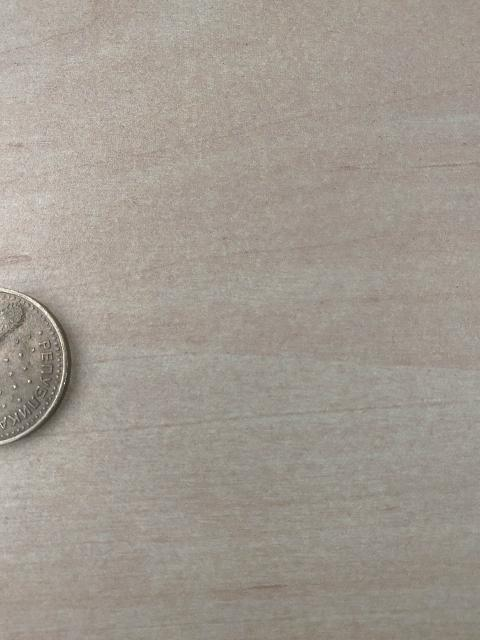coin: (0, 289, 68, 444)
